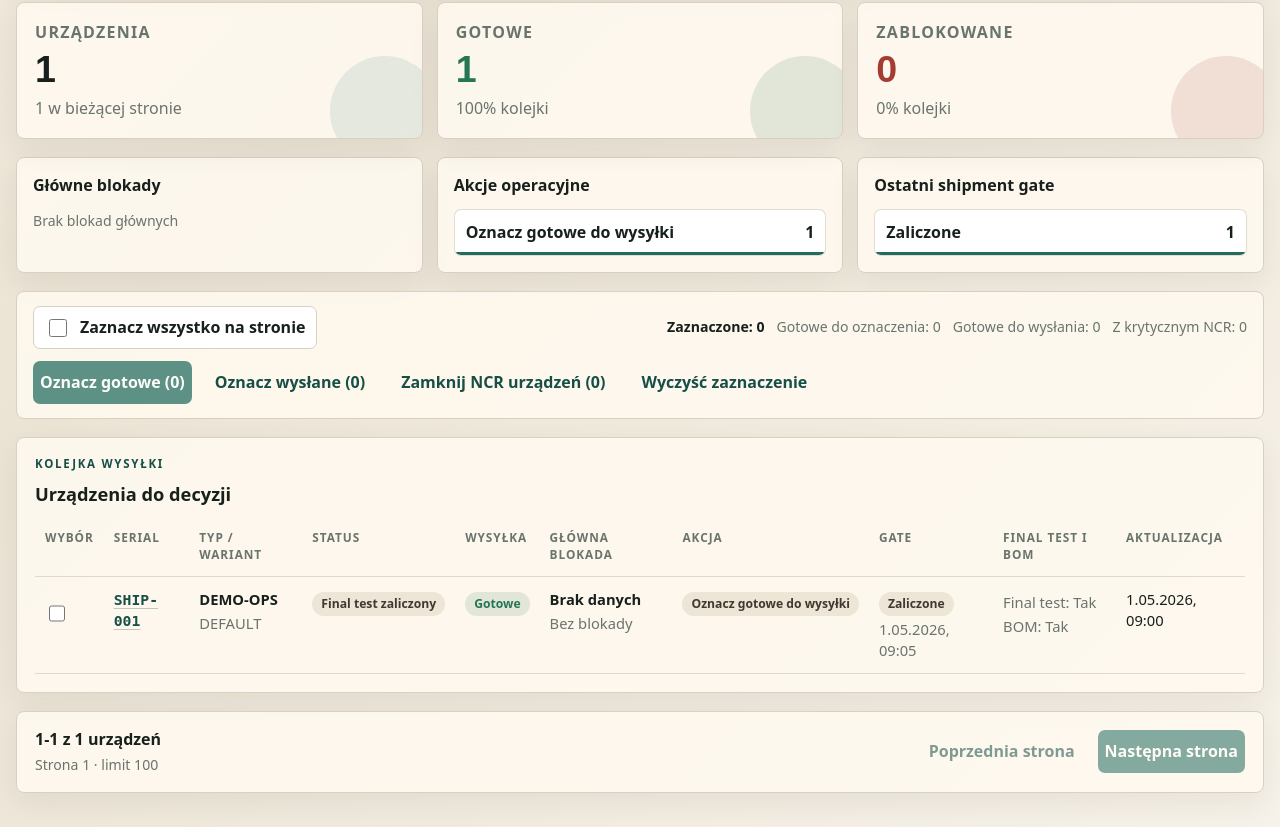
Test case: App › closes component critical NCRs from the details drawer
(page scrolled)
What coordinates should you click on to do the following:
click the button "SHIP-001"
I would click on:
 (146, 610)
Its box is [114, 588, 179, 631].
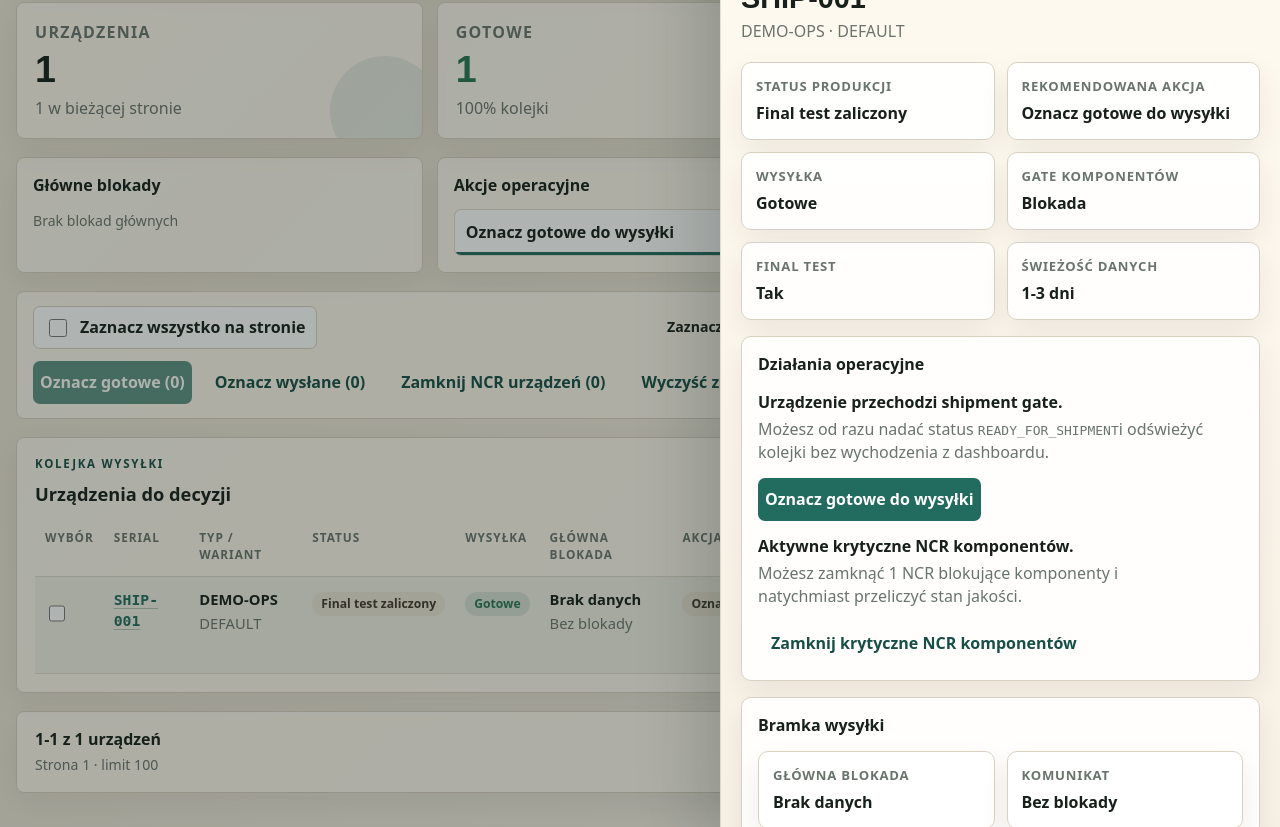
What coordinates should you click on to do the following:
click the button "Zamknij krytyczne NCR komponentów"
I would click on:
 (924, 643)
Its box is [758, 623, 1090, 664].
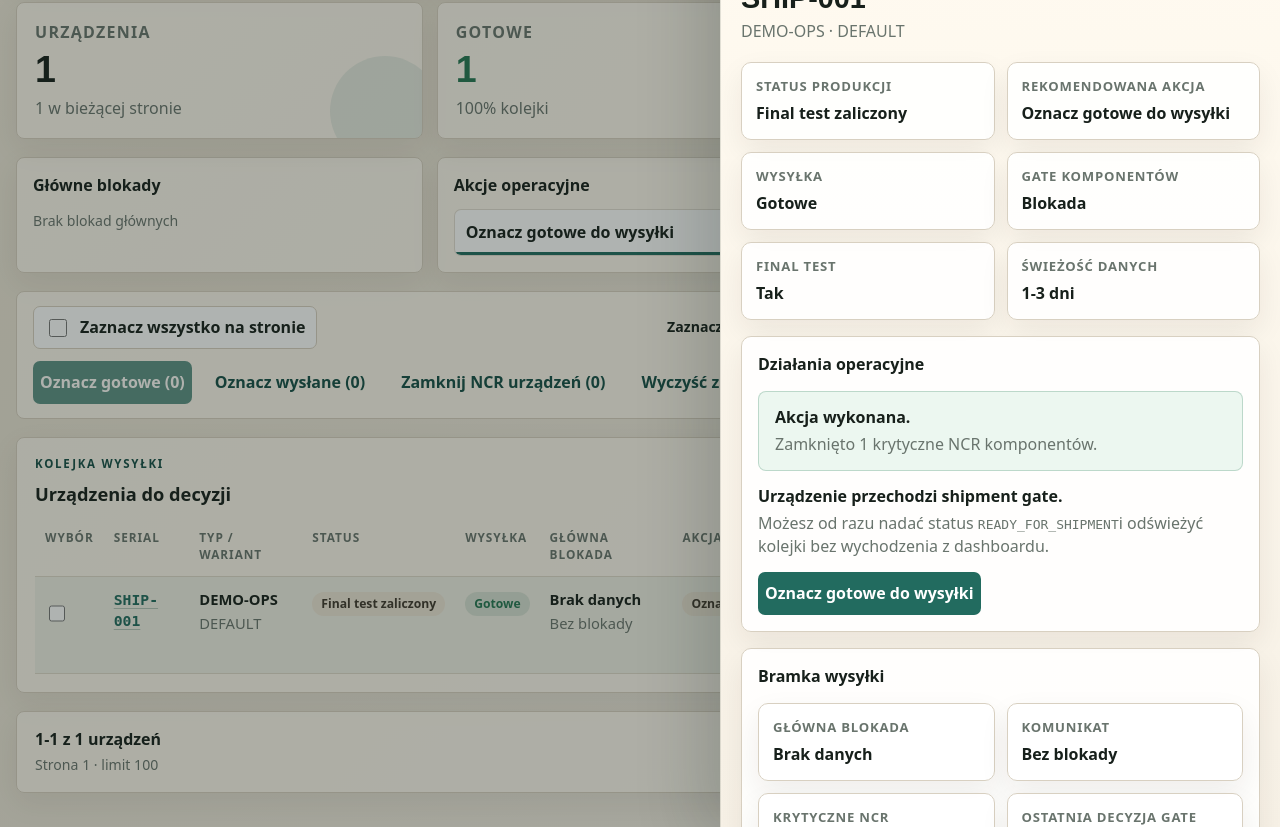
Now the text "Zamknięto 1 krytyczne NCR komponentów." is shown, box [775, 433, 1097, 455]
Now the button "Zamknij krytyczne NCR komponentów" is gone
